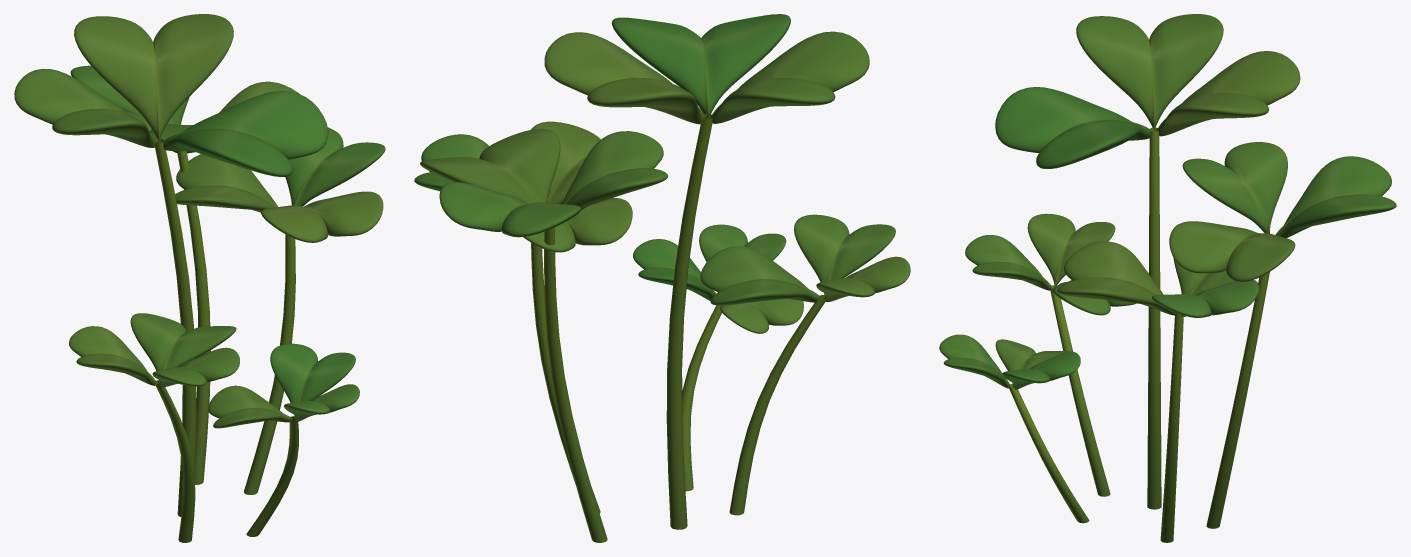
The model's file is SM_BankClover.fbx.
The picture shows the model from 3 angles, left to right: view 1: azimuth 30°, elevation 25°; view 2: azimuth 150°, elevation 25°; view 3: azimuth 270°, elevation 25°; orthographic projection. The views are drawn at different scales.
Visible parts, largest first — view 1: SM_BankClover; view 2: SM_BankClover; view 3: SM_BankClover.
Boxes of the visible parts, x1,y1,x2,y2 form: SM_BankClover: [14, 14, 385, 542]; SM_BankClover: [414, 14, 910, 542]; SM_BankClover: [939, 14, 1396, 542].
Bounding box in the file's own units: 49.04 × 57.06 × 54.55.
